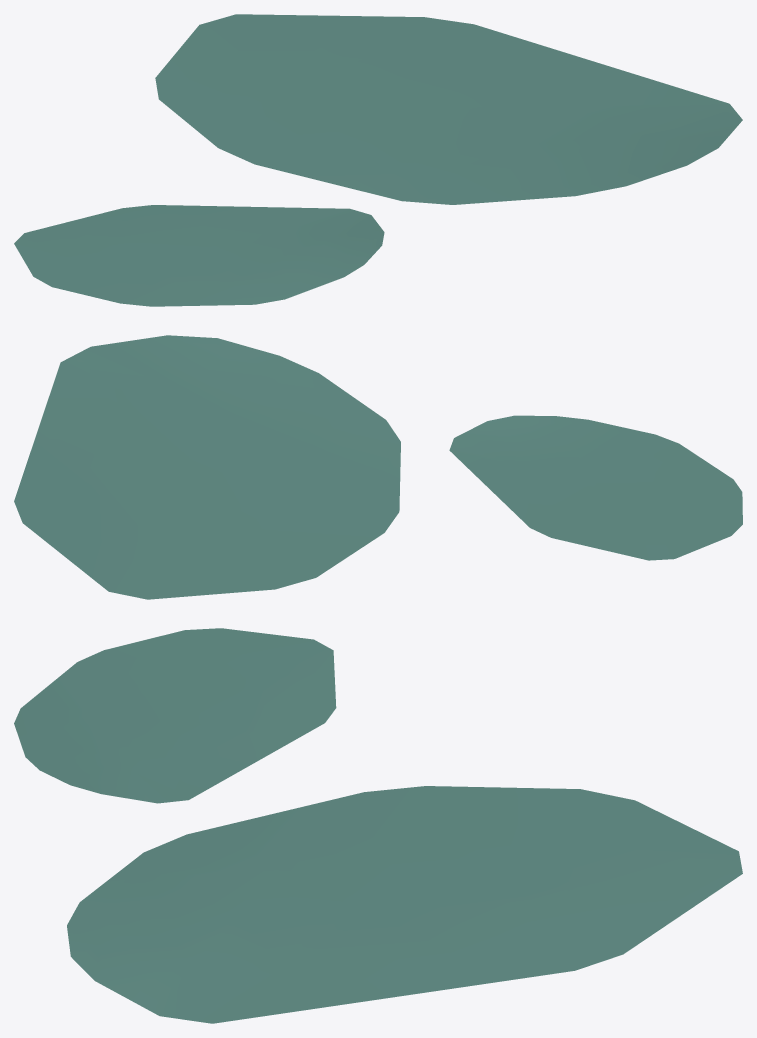
File: puddle.fbx
3 renders of one model, top to bottom at view 1: azimuth 30°, elevation 25°; view 2: azimuth 150°, elevation 25°; view 3: azimuth 270°, elevation 25°, orthographic. The views are drawn at different scales.
Parts seen in each view (by area): view 1: Plane, Plane.003; view 2: Plane, Plane.003; view 3: Plane, Plane.003.
Part boxes in pixels (x1,y1,x2,y2): Plane: (155, 14, 742, 204); Plane.003: (14, 205, 384, 306); Plane: (14, 335, 400, 599); Plane.003: (449, 415, 742, 560); Plane: (67, 786, 742, 1023); Plane.003: (14, 628, 336, 803).
Size of the model in its own units: 313 by 5.74 by 239.
